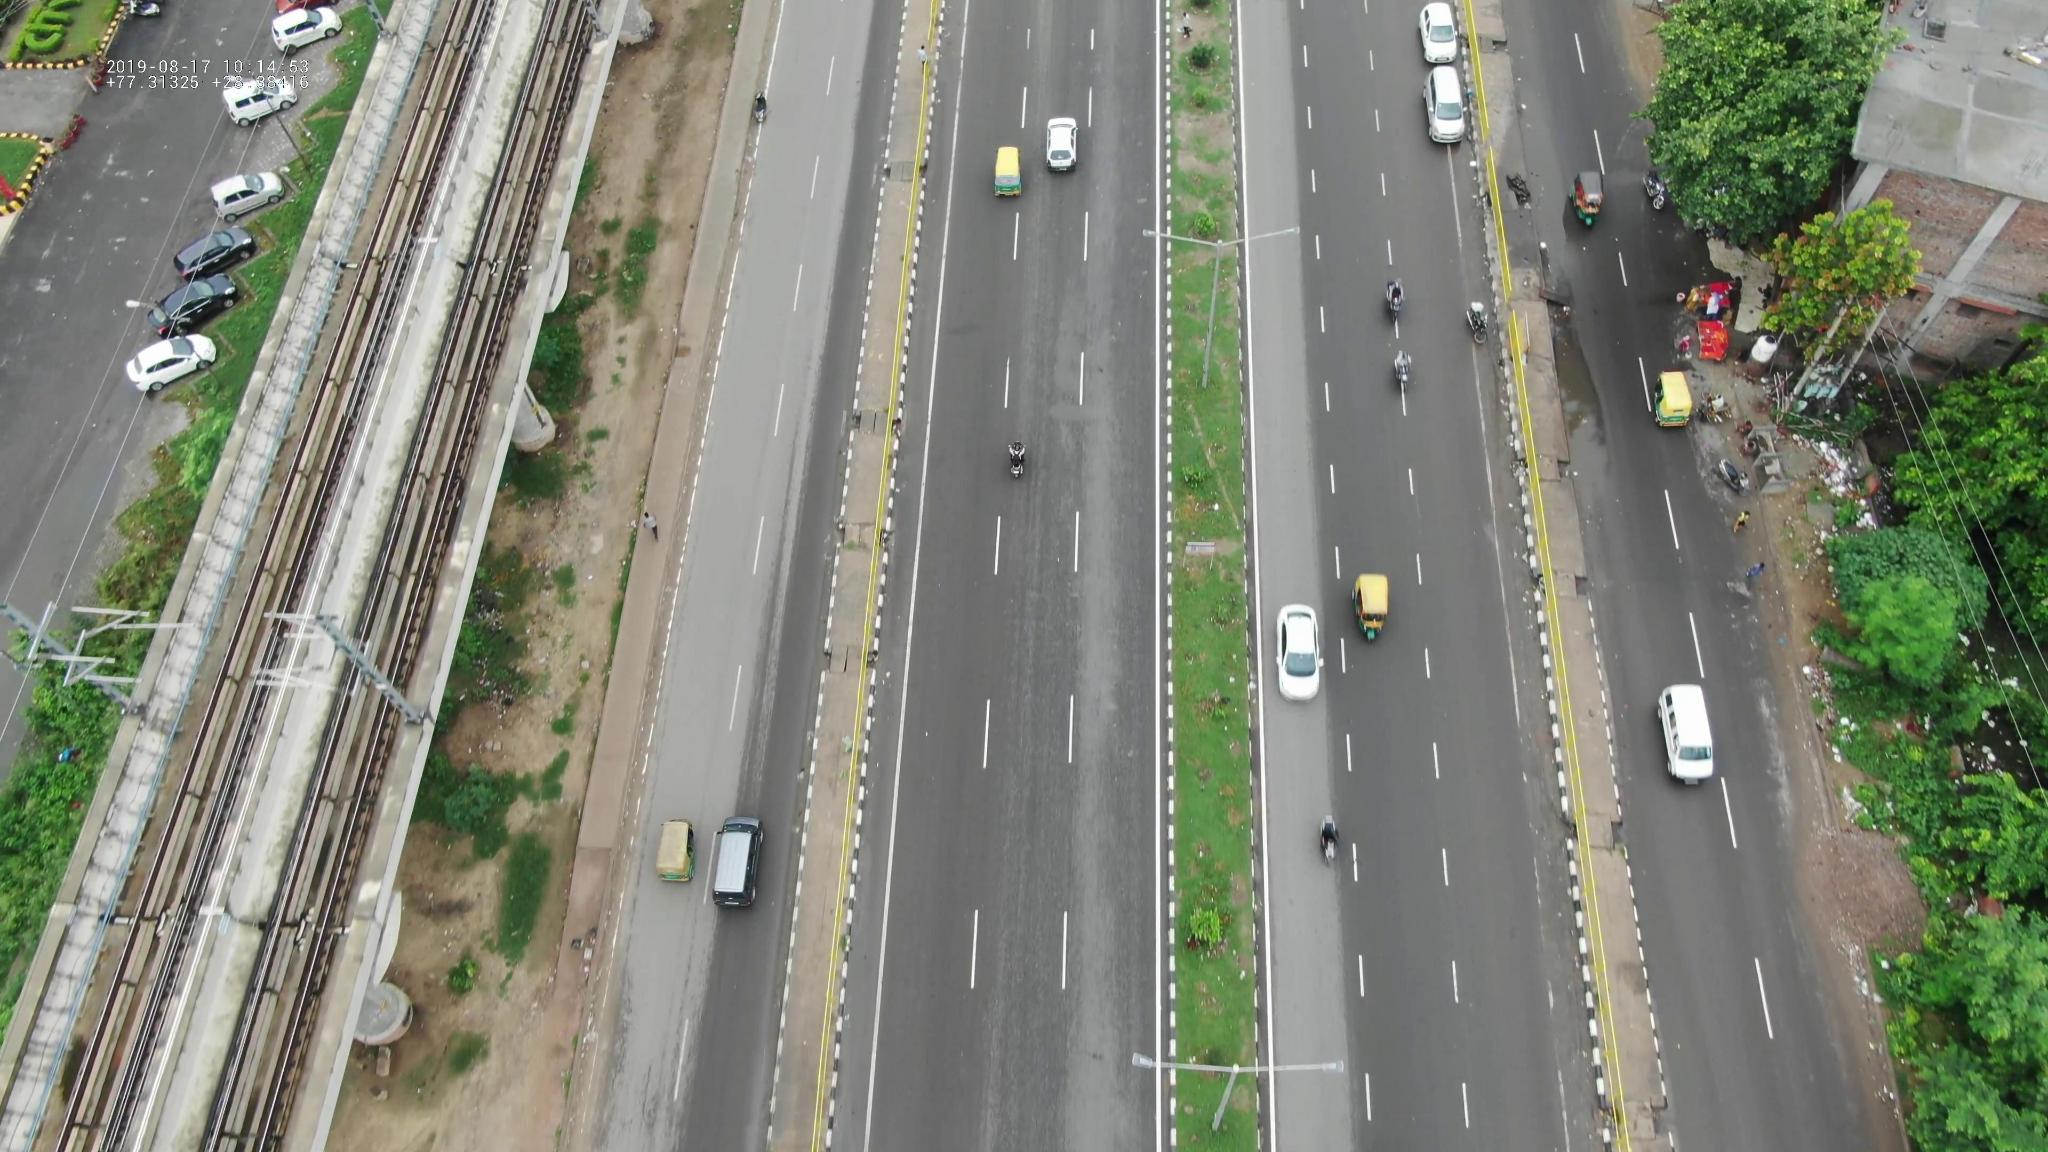Waterlogging: (1554, 324, 1618, 526)
